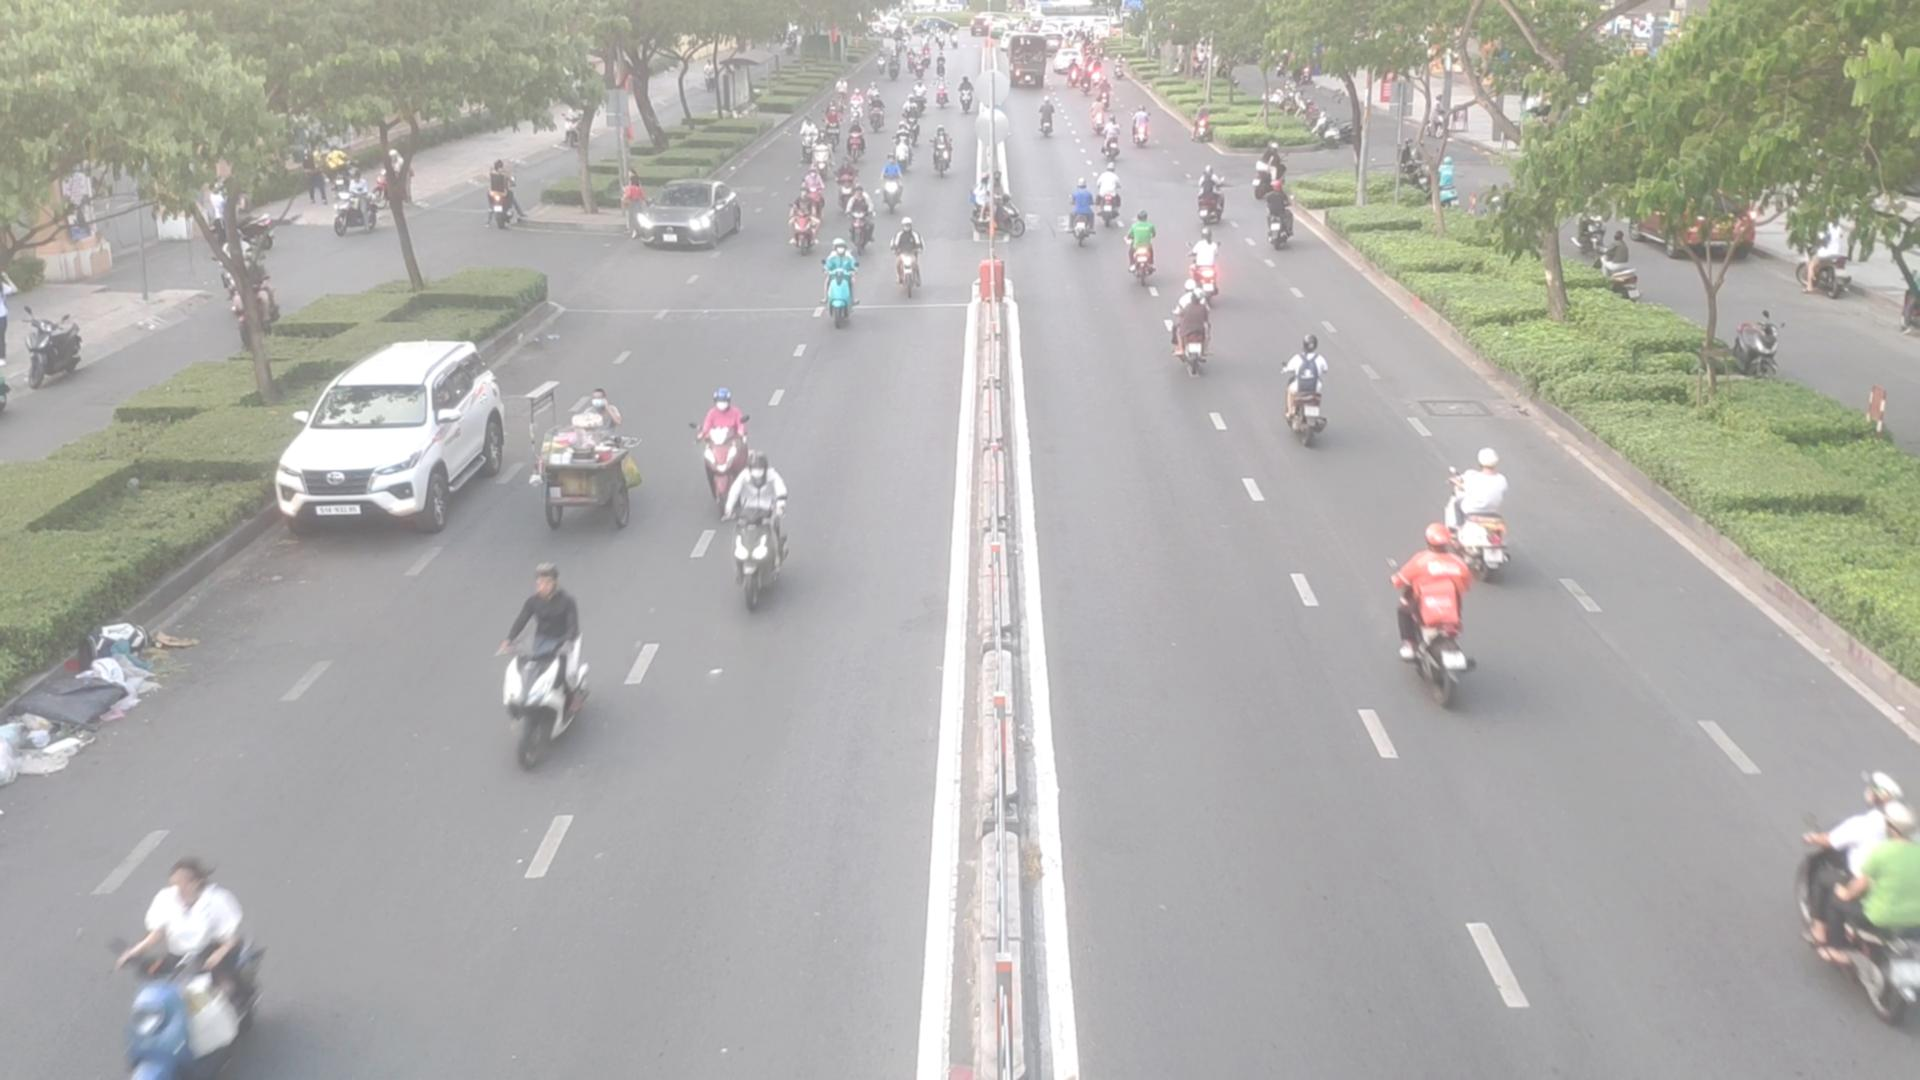car: (272, 343, 527, 533), (622, 183, 754, 251)
motorbike: (1785, 756, 1920, 1029), (123, 860, 278, 1080), (495, 585, 595, 771), (1387, 545, 1486, 703), (708, 446, 793, 611), (1447, 440, 1524, 574), (1273, 342, 1335, 446), (699, 386, 756, 495), (1164, 297, 1216, 378), (814, 255, 866, 330), (1065, 178, 1120, 241), (1180, 245, 1228, 313), (885, 229, 926, 299), (1125, 220, 1167, 287), (840, 175, 876, 253), (1193, 165, 1229, 232), (787, 199, 824, 256), (1262, 207, 1296, 253), (873, 167, 903, 208), (1096, 119, 1122, 157), (1131, 113, 1159, 149), (1036, 105, 1062, 140)
